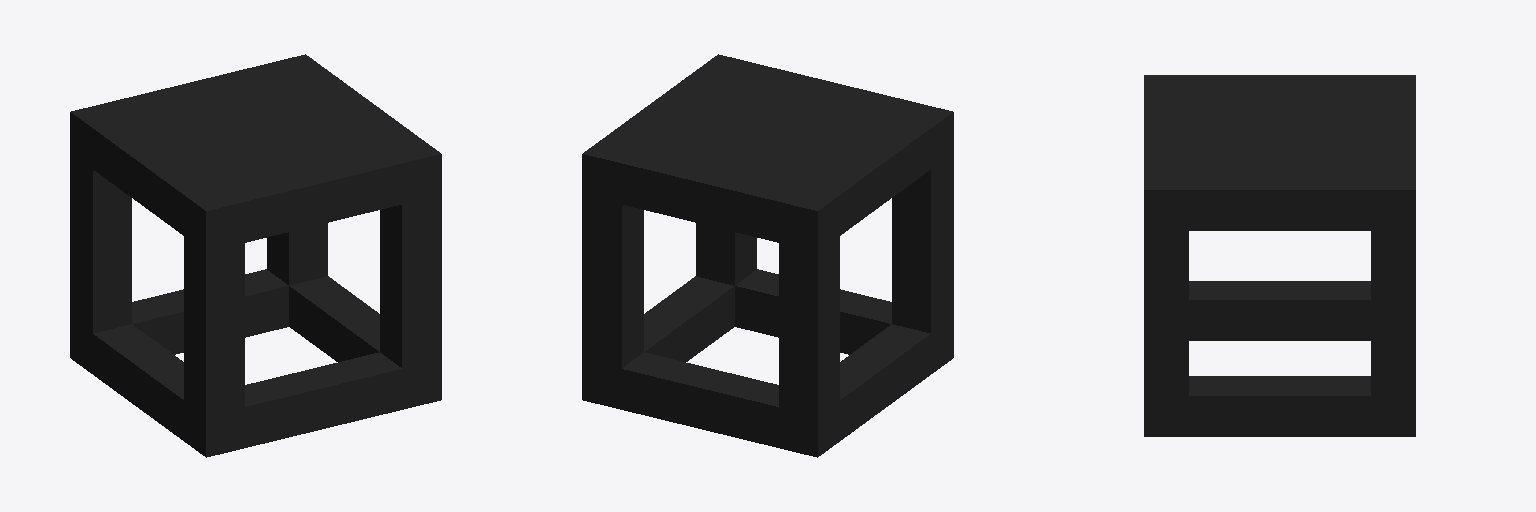
The model's file is spires_hollow.obj.
3 views of the same model, side by side, from view 1: azimuth 30°, elevation 25°; view 2: azimuth 150°, elevation 25°; view 3: azimuth 270°, elevation 25° (orthographic).
Parts seen in each view (by area): view 1: ground cube; view 2: ground cube; view 3: ground cube.
Part boxes in pixels (x1,y1,x2,y2): ground cube: (70,54,441,457); ground cube: (582,54,953,457); ground cube: (1144,75,1415,436).
Size of the model in its own units: 3 by 3 by 3.